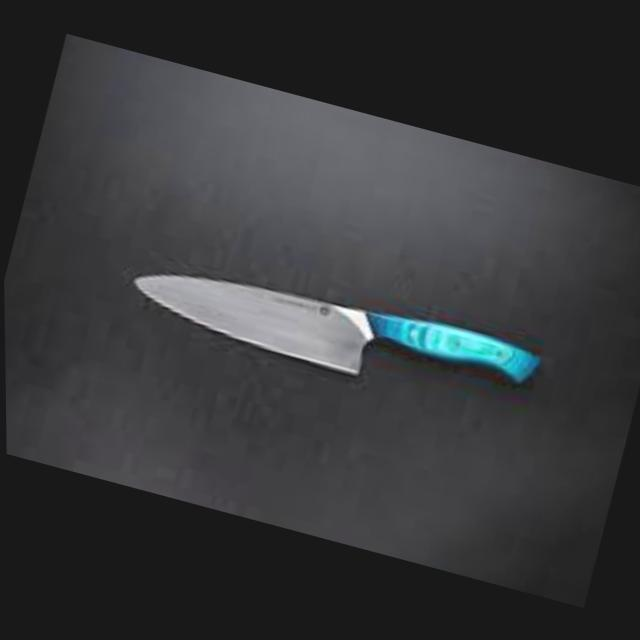knife: (122, 240, 542, 419)
